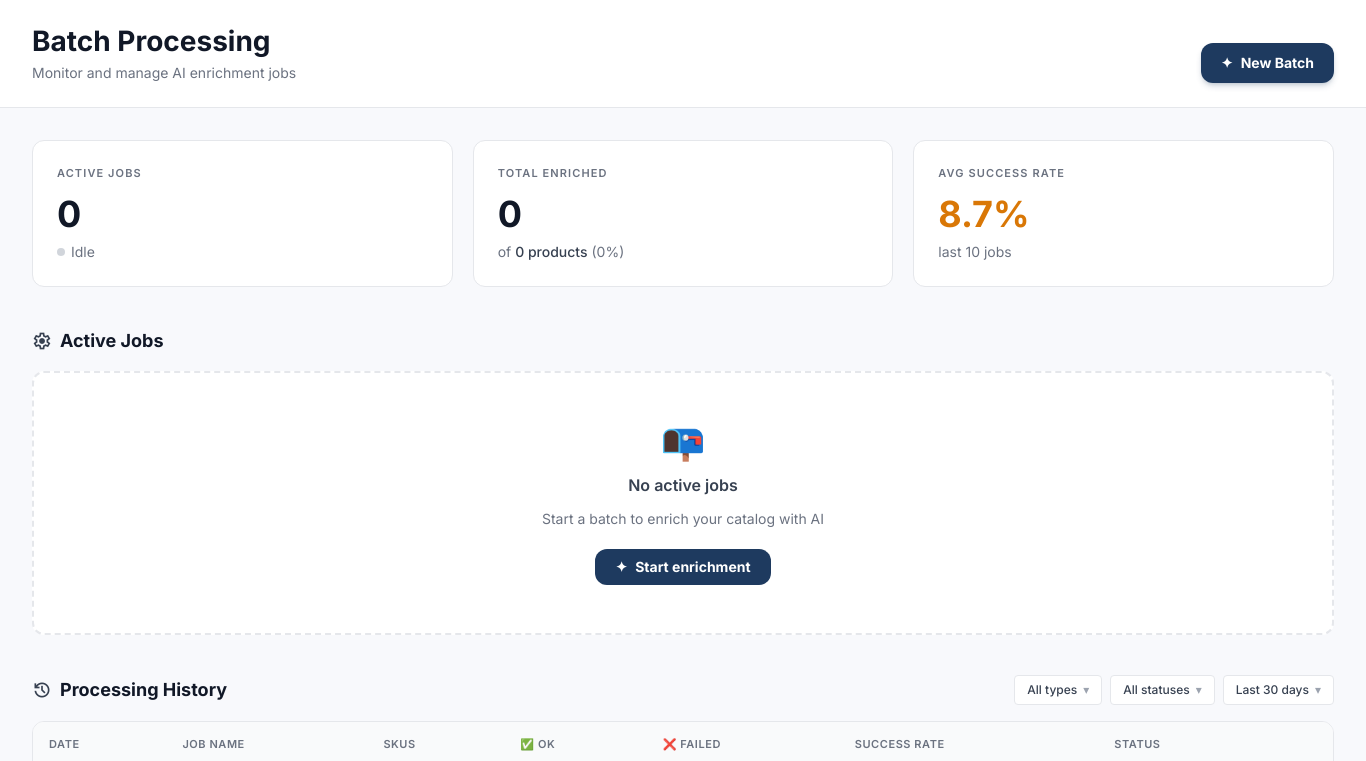
Test case: ProcessingPage — handleStartBatch › visar felmeddelande om POST /api/v1/enrich/bulk misslyckas
Click the button "✦ New Batch" at (1267, 63), box [1201, 43, 1334, 83]
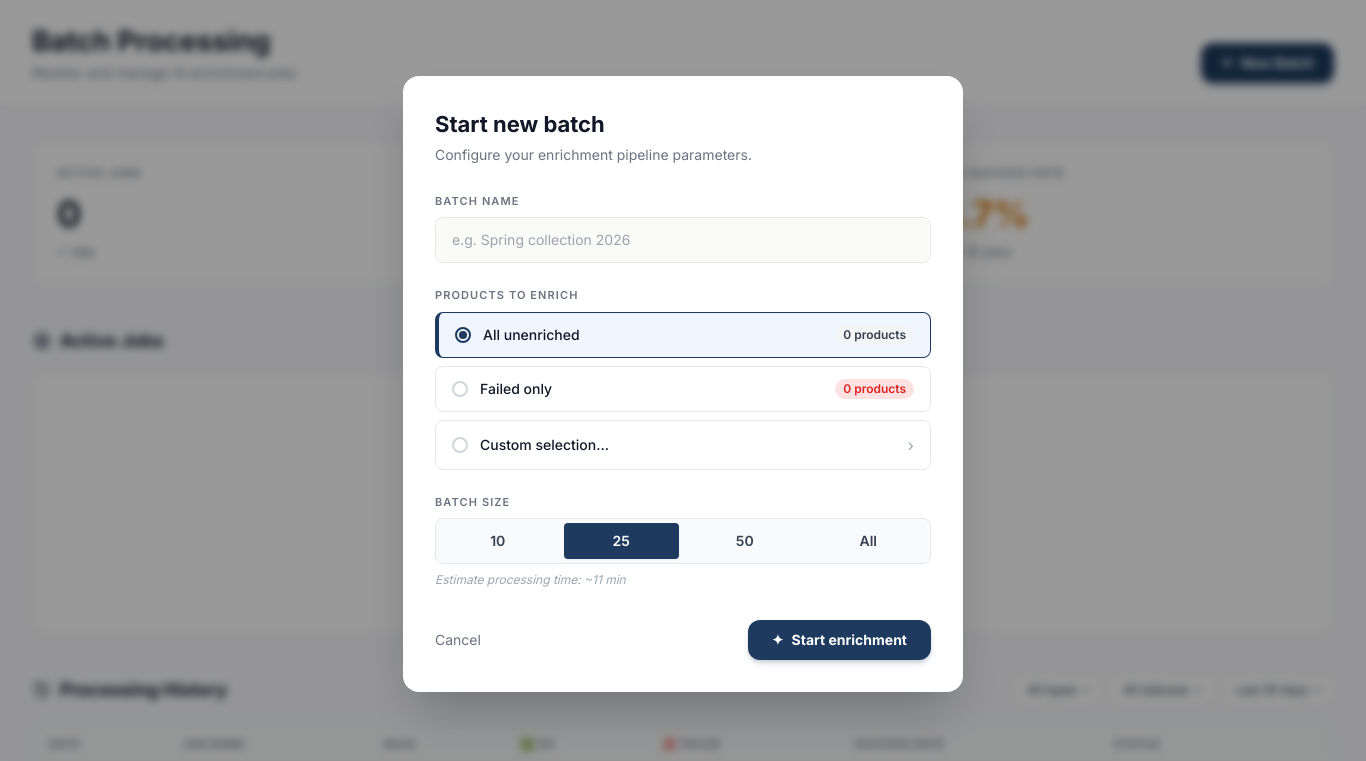
Click the button "✦ Start enrichment" at (839, 640), box [748, 620, 931, 660]
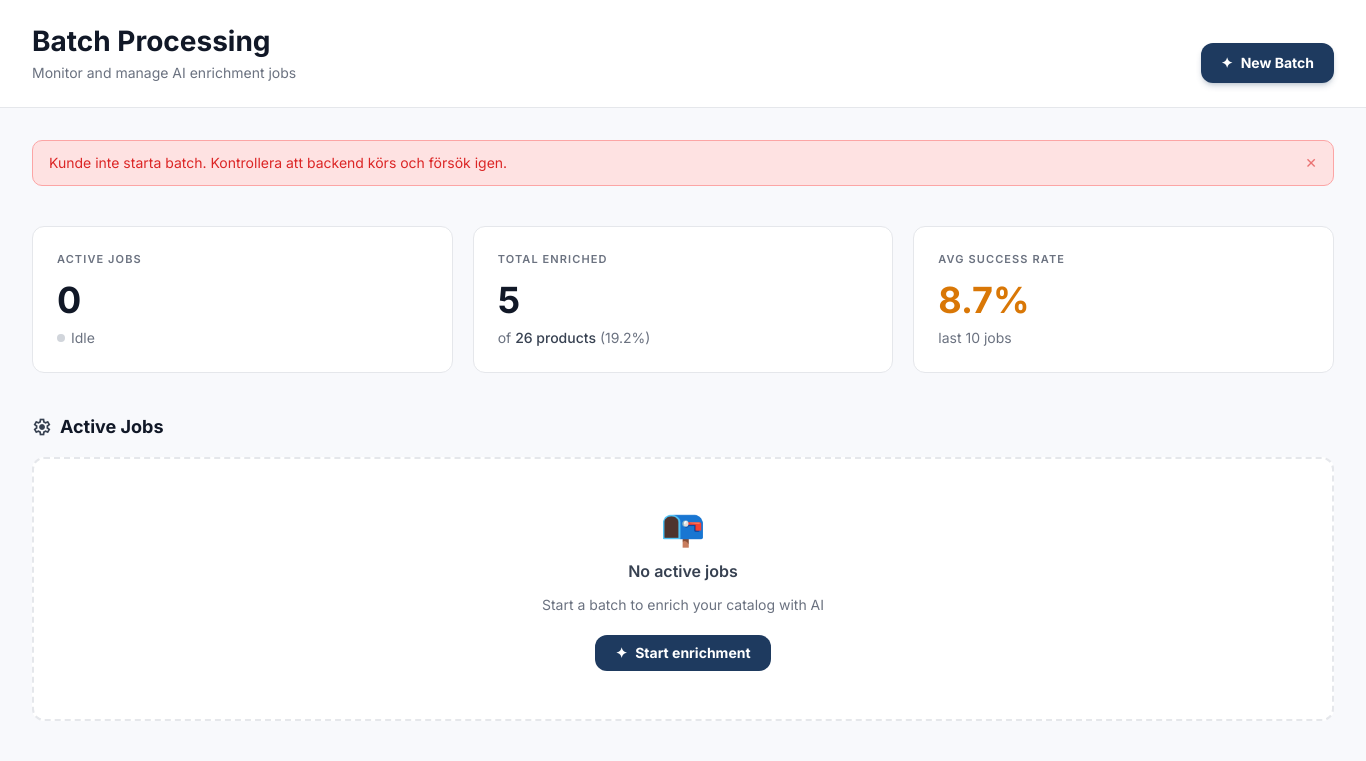
Now the message "Kunde inte starta batch. Kontrollera att backend körs och försök igen. ✕" is shown, box [32, 140, 1334, 186]
